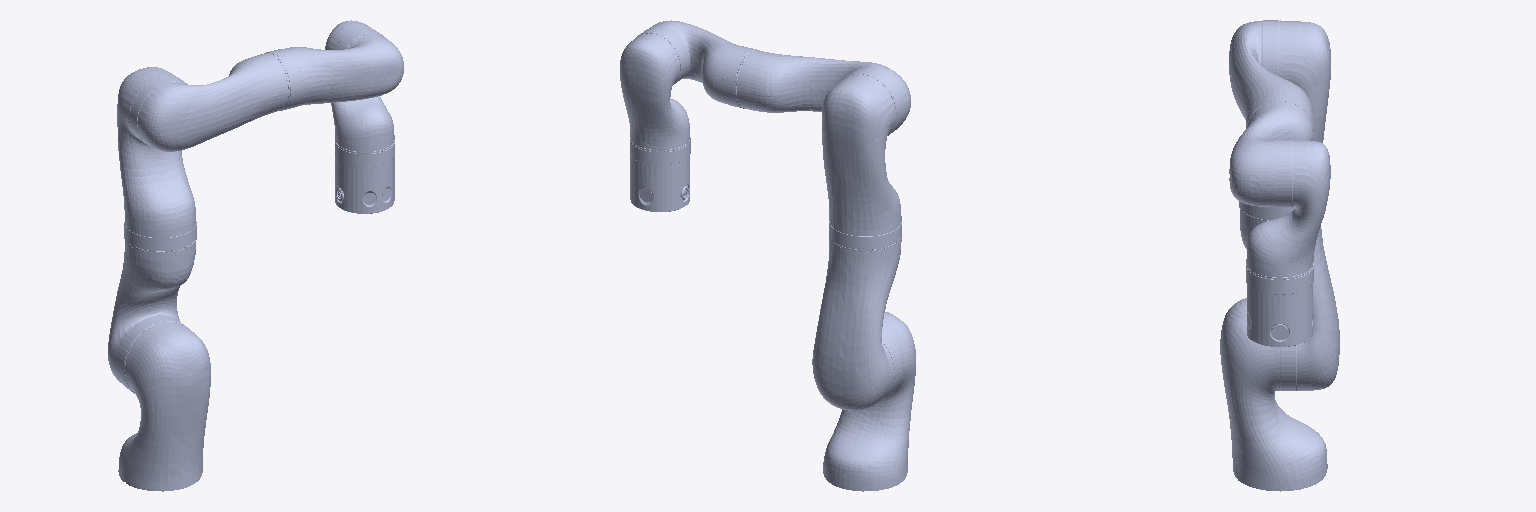
URDF robot description (tl_tcb705):
<?xml version="1.0" encoding="utf-8"?>
<!-- This URDF was automatically created by SolidWorks to URDF Exporter! Originally created by Stephen Brawner (brawner@gmail.com) 
     Commit Version: 1.6.0-4-g7f85cfe  Build Version: 1.6.7995.38578
     For more information, please see http://wiki.ros.org/sw_urdf_exporter -->
<robot
  name="tl_tcb705">
  <link
    name="link0">
    <inertial>
      <origin
        xyz="0.000708831292588153 -8.6107534914906E-05 0.0437241147546661"
        rpy="0 0 0" />
      <mass
        value="0.184997778677384" />
      <inertia
        ixx="0.000408655880224899"
        ixy="-6.47925326858498E-07"
        ixz="3.45905947380277E-06"
        iyy="0.000402045698173366"
        iyz="-4.42033155327597E-07"
        izz="0.000394929591269372" />
    </inertial>
    <visual>
      <origin
        xyz="0 0 0"
        rpy="0 0 0" />
      <geometry>
        <mesh
          filename="package://tl_description/meshes/tl_tcb705/link0.STL" />
      </geometry>
      <material
        name="">
        <color
          rgba="0.792156862745098 0.819607843137255 0.933333333333333 1" />
      </material>
    </visual>
    <collision>
      <origin
        xyz="0 0 0"
        rpy="0 0 0" />
      <geometry>
        <mesh
          filename="package://tl_description/meshes/tl_tcb705/link0.STL" />
      </geometry>
    </collision>
  </link>
  <link
    name="link1">
    <inertial>
      <origin
        xyz="-1.4189019277123E-05 -0.0147043432758809 0.0739725067130976"
        rpy="0 0 0" />
      <mass
        value="0.140788242034027" />
      <inertia
        ixx="0.000389189148274927"
        ixy="9.56014640706854E-09"
        ixz="-4.0052899016421E-08"
        iyy="0.000404624430565959"
        iyz="5.39754948564023E-05"
        izz="0.000158805233771653" />
    </inertial>
    <visual>
      <origin
        xyz="0 0 0"
        rpy="0 0 0" />
      <geometry>
        <mesh
          filename="package://tl_description/meshes/tl_tcb705/link1.STL" />
      </geometry>
      <material
        name="">
        <color
          rgba="0.792156862745098 0.819607843137255 0.933333333333333 1" />
      </material>
    </visual>
    <collision>
      <origin
        xyz="0 0 0"
        rpy="0 0 0" />
      <geometry>
        <mesh
          filename="package://tl_description/meshes/tl_tcb705/link1.STL" />
      </geometry>
    </collision>
  </link>
  <joint
    name="joint1"
    type="revolute">
    <origin
      xyz="0 0 0.11455"
      rpy="0 0 0" />
    <parent
      link="link0" />
    <child
      link="link1" />
    <axis
      xyz="0 0 1" />
    <limit
      lower="-3.1416"
      upper="3.1416"
      effort="0"
      velocity="0" />
  </joint>
  <link
    name="link2">
    <inertial>
      <origin
        xyz="9.19207954618283E-06 -0.0560553900664352 0.0115243937335766"
        rpy="0 0 0" />
      <mass
        value="0.124453837315585" />
      <inertia
        ixx="0.000370562388619595"
        ixy="-1.23017622950655E-08"
        ixz="-1.0794523166152E-08"
        iyy="0.000121240641801281"
        iyz="-7.13336123519827E-05"
        izz="0.000380165496119024" />
    </inertial>
    <visual>
      <origin
        xyz="0 0 0"
        rpy="0 0 0" />
      <geometry>
        <mesh
          filename="package://tl_description/meshes/tl_tcb705/link2.STL" />
      </geometry>
      <material
        name="">
        <color
          rgba="0.792156862745098 0.819607843137255 0.933333333333333 1" />
      </material>
    </visual>
    <collision>
      <origin
        xyz="0 0 0"
        rpy="0 0 0" />
      <geometry>
        <mesh
          filename="package://tl_description/meshes/tl_tcb705/link2.STL" />
      </geometry>
    </collision>
  </link>
  <joint
    name="joint2"
    type="revolute">
    <origin
      xyz="0 0.00715 0.12725"
      rpy="-1.5708 0 0" />
    <parent
      link="link1" />
    <child
      link="link2" />
    <axis
      xyz="0 0 1" />
    <limit
      lower="-2.4086"
      upper="2.4086"
      effort="0"
      velocity="0" />
  </joint>
  <link
    name="link3">
    <inertial>
      <origin
        xyz="-0.000129925169837953 0.0129886993835705 0.0728745662870723"
        rpy="0 0 0" />
      <mass
        value="0.114589017421966" />
      <inertia
        ixx="0.000277976900897136"
        ixy="-1.68692363161655E-07"
        ixz="9.63556530398865E-07"
        iyy="0.000287459181446612"
        iyz="-3.76317124310853E-05"
        izz="9.72100160237893E-05" />
    </inertial>
    <visual>
      <origin
        xyz="0 0 0"
        rpy="0 0 0" />
      <geometry>
        <mesh
          filename="package://tl_description/meshes/tl_tcb705/link3.STL" />
      </geometry>
      <material
        name="">
        <color
          rgba="0.792156862745098 0.819607843137255 0.933333333333333 1" />
      </material>
    </visual>
    <collision>
      <origin
        xyz="0 0 0"
        rpy="0 0 0" />
      <geometry>
        <mesh
          filename="package://tl_description/meshes/tl_tcb705/link3.STL" />
      </geometry>
    </collision>
  </link>
  <joint
    name="joint3"
    type="revolute">
    <origin
      xyz="0 -0.14065 -0.00735"
      rpy="1.5708 0 0" />
    <parent
      link="link2" />
    <child
      link="link3" />
    <axis
      xyz="0 0 1" />
    <limit
      lower="-3.1416"
      upper="3.1416"
      effort="0"
      velocity="0" />
  </joint>
  <link
    name="link4">
    <inertial>
      <origin
        xyz="-6.46545148829825E-06 0.0577535239528024 0.00878471471985597"
        rpy="0 0 0" />
      <mass
        value="0.0945260086054296" />
      <inertia
        ixx="0.000237785840924209"
        ixy="5.31249473535568E-08"
        ixz="-1.09590833982248E-09"
        iyy="6.42616332896452E-05"
        iyz="4.60316398883639E-05"
        izz="0.000240859287939207" />
    </inertial>
    <visual>
      <origin
        xyz="0 0 0"
        rpy="0 0 0" />
      <geometry>
        <mesh
          filename="package://tl_description/meshes/tl_tcb705/link4.STL" />
      </geometry>
      <material
        name="">
        <color
          rgba="0.792156862745098 0.819607843137255 0.933333333333333 1" />
      </material>
    </visual>
    <collision>
      <origin
        xyz="0 0 0"
        rpy="0 0 0" />
      <geometry>
        <mesh
          filename="package://tl_description/meshes/tl_tcb705/link4.STL" />
      </geometry>
    </collision>
  </link>
  <joint
    name="joint4"
    type="revolute">
    <origin
      xyz="0 -0.00815 0.12915"
      rpy="1.5708 1.5708 0" />
    <parent
      link="link3" />
    <child
      link="link4" />
    <axis
      xyz="0 0 -1" />
    <limit
      lower="-4.0666"
      upper="0.9250"
      effort="0"
      velocity="0" />
  </joint>
  <link
    name="link5">
    <inertial>
      <origin
        xyz="1.01643219096706E-05 -0.0129940461144523 0.0552922958436949"
        rpy="0 0 0" />
      <mass
        value="0.072084877607265" />
      <inertia
        ixx="0.000105414979838941"
        ixy="1.21065620530406E-08"
        ixz="2.48504586308139E-09"
        iyy="0.000106134770502875"
        iyz="1.86457236507763E-05"
        izz="4.55695530042532E-05" />
    </inertial>
    <visual>
      <origin
        xyz="0 0 0"
        rpy="0 0 0" />
      <geometry>
        <mesh
          filename="package://tl_description/meshes/tl_tcb705/link5.STL" />
      </geometry>
      <material
        name="">
        <color
          rgba="0.792156862745098 0.819607843137255 0.933333333333333 1" />
      </material>
    </visual>
    <collision>
      <origin
        xyz="0 0 0"
        rpy="0 0 0" />
      <geometry>
        <mesh
          filename="package://tl_description/meshes/tl_tcb705/link5.STL" />
      </geometry>
    </collision>
  </link>
  <joint
    name="joint5"
    type="revolute">
    <origin
      xyz="0 0.13665 -0.00835"
      rpy="-1.5708 0 0" />
    <parent
      link="link4" />
    <child
      link="link5" />
    <axis
      xyz="0 0 1" />
    <limit
      lower="-3.1416"
      upper="3.1416"
      effort="0"
      velocity="0" />
  </joint>
  <link
    name="link6">
    <inertial>
      <origin
        xyz="-1.08589514110573E-06 -0.0369306844975036 0.0120181285669343"
        rpy="0 0 0" />
      <mass
        value="0.0641129523179877" />
      <inertia
        ixx="9.88028571604253E-05"
        ixy="7.57179561200419E-09"
        ixz="-3.11343531446862E-09"
        iyy="4.10033810292749E-05"
        iyz="-2.10914884308664E-05"
        izz="9.73769574430475E-05" />
    </inertial>
    <visual>
      <origin
        xyz="0 0 0"
        rpy="0 0 0" />
      <geometry>
        <mesh
          filename="package://tl_description/meshes/tl_tcb705/link6.STL" />
      </geometry>
      <material
        name="">
        <color
          rgba="0.792156862745098 0.819607843137255 0.933333333333333 1" />
      </material>
    </visual>
    <collision>
      <origin
        xyz="0 0 0"
        rpy="0 0 0" />
      <geometry>
        <mesh
          filename="package://tl_description/meshes/tl_tcb705/link6.STL" />
      </geometry>
    </collision>
  </link>
  <joint
    name="joint6"
    type="revolute">
    <origin
      xyz="0 0.00365 0.09315"
      rpy="-1.5708 1.5708 0" />
    <parent
      link="link5" />
    <child
      link="link6" />
    <axis
      xyz="0 0 1" />
    <limit
      lower="-3.8921"
      upper="0.7505"
      effort="0"
      velocity="0" />
  </joint>
  <link
    name="link7">
    <inertial>
      <origin
        xyz="0.000439337912566585 -0.00011463025858148 0.0338360355605346"
        rpy="0 0 0" />
      <mass
        value="0.0531024374144144" />
      <inertia
        ixx="3.09184116553573E-05"
        ixy="-1.15972581719968E-08"
        ixz="-2.34766421628389E-07"
        iyy="3.18708092165575E-05"
        iyz="6.28848515529782E-08"
        izz="3.41446110066842E-05" />
    </inertial>
    <visual>
      <origin
        xyz="0 0 0"
        rpy="0 0 0" />
      <geometry>
        <mesh
          filename="package://tl_description/meshes/tl_tcb705/link7.STL" />
      </geometry>
      <material
        name="">
        <color
          rgba="0.792156862745098 0.819607843137255 0.933333333333333 1" />
      </material>
    </visual>
    <collision>
      <origin
        xyz="0 0 0"
        rpy="0 0 0" />
      <geometry>
        <mesh
          filename="package://tl_description/meshes/tl_tcb705/link7.STL" />
      </geometry>
    </collision>
  </link>
  <joint
    name="joint7"
    type="revolute">
    <origin
      xyz="0 -0.09515 -0.00385"
      rpy="1.5708 0 0" />
    <parent
      link="link6" />
    <child
      link="link7" />
    <axis
      xyz="0 0 1" />
    <limit
      lower="-3.1416"
      upper="3.1416"
      effort="0"
      velocity="0" />
  </joint>
</robot>

--- Facts derived from the render (not from the file) ---
3 views of the same robot in one strip: view 1: azimuth 30°, elevation 25°; view 2: azimuth 150°, elevation 25°; view 3: azimuth 270°, elevation 25° (orthographic).
Model tl_tcb705 with 8 links and 7 joints (7 revolute), rooted at link0, posed all joints at 0.
Visible links, largest first — view 1: link1, link4, link3, link2, link5, link6, link7; view 2: link2, link3, link1, link6, link4, link5, link7; view 3: link1, link6, link5, link2, link3, link4, link7.
Boxes of the visible links, x1,y1,x2,y2 form: link1: (117,315,210,491); link4: (137,49,302,151); link3: (117,67,196,237); link2: (108,221,196,383); link5: (285,28,403,106); link6: (325,20,394,166); link7: (335,157,394,213); link2: (812,221,901,410); link3: (822,68,904,235); link1: (823,312,915,491); link6: (620,33,690,164); link4: (722,46,910,126); link5: (637,20,741,103); link7: (630,155,689,211); link1: (1220,298,1327,491); link6: (1246,140,1330,294); link5: (1229,101,1313,206); link2: (1239,201,1339,390); link3: (1262,20,1330,142); link4: (1229,21,1313,136); link7: (1247,284,1312,346).
Bounding box of the posed robot: 0.3006 × 0.1036 × 0.4278 m (x, y, z).
Meshes: 8 distinct files referenced, 7 mesh visuals loaded (7 binary STL); not drawn: 1 (reference not matched to a file when rendering).
